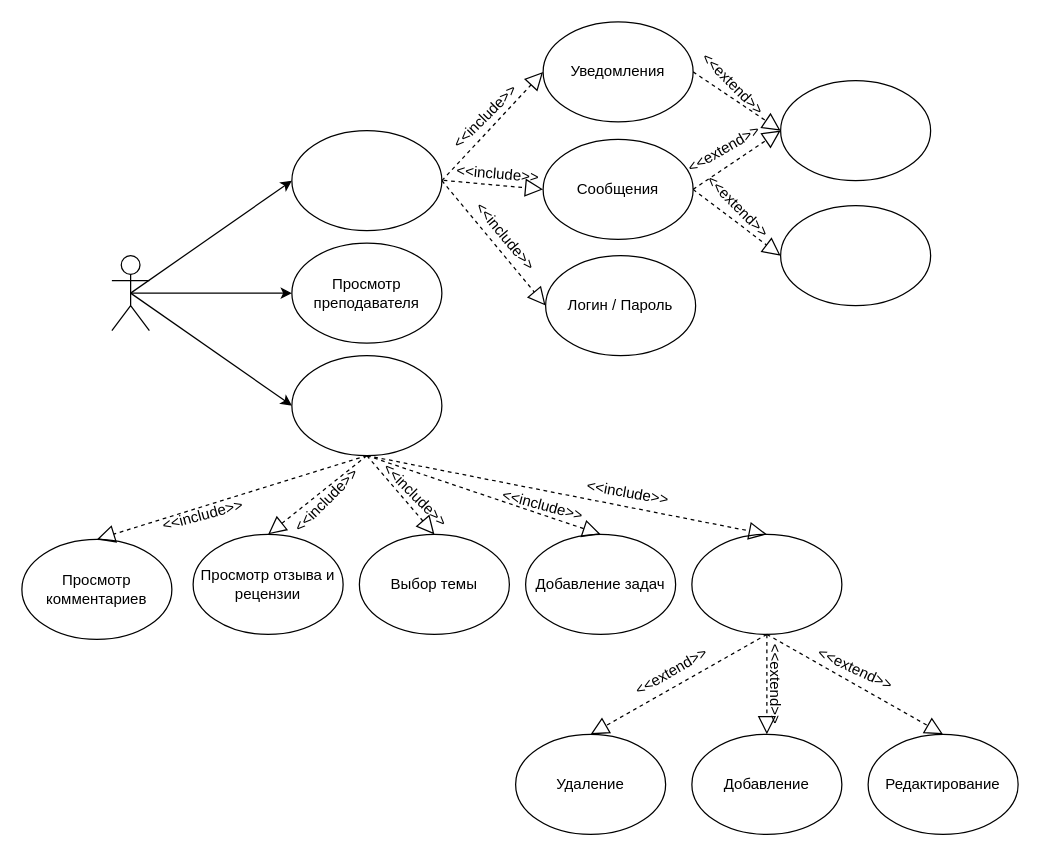
The diagram is 1040 pixels wide and 856 high, and some of its shapes have lost their labels. The centre of each missing label's shape, as x and y in pixels:
"Отправка" belongs at (x=855, y=255).
"Получение" belongs at (x=855, y=130).
"Проект" belongs at (x=366, y=405).
"Студент" belongs at (x=130, y=292).
"Управление личным кабинетом" belongs at (x=366, y=180).
"Управление материалами" belongs at (x=766, y=583).
